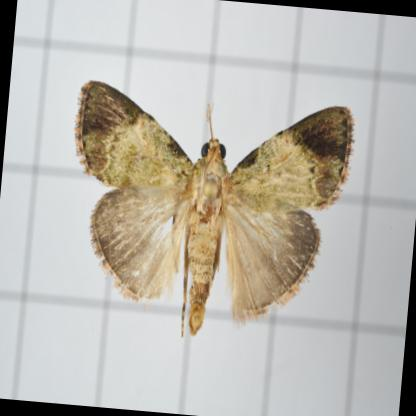Leaf Webber: (73, 78, 350, 343)
